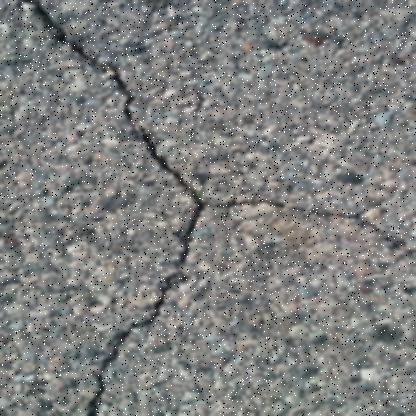Cracks: (0, 0, 214, 415), (180, 191, 416, 249)
